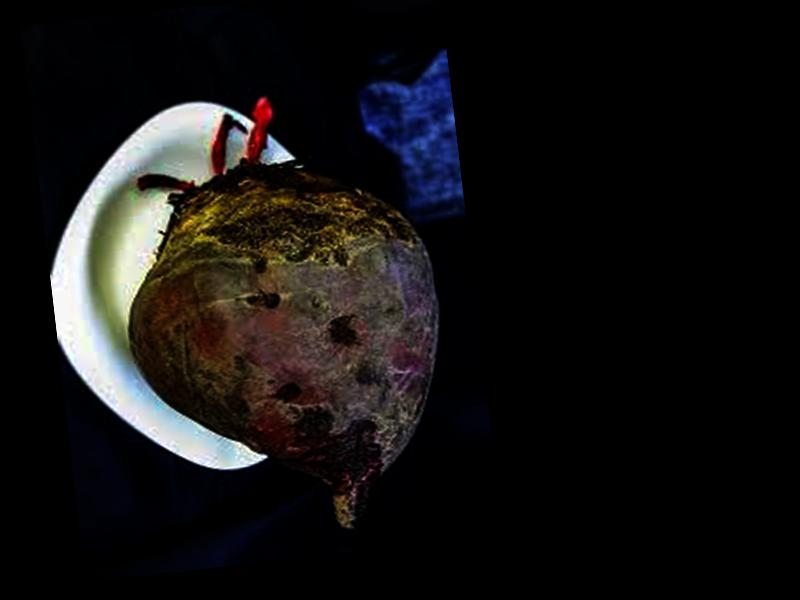Beet: (104, 79, 458, 549)
